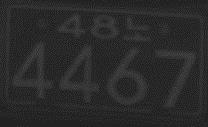4: (12, 39, 53, 100), (58, 43, 99, 103), (58, 13, 86, 39)
6: (105, 45, 148, 107)
7: (153, 47, 196, 107)
8: (90, 13, 119, 39)
노: (123, 15, 153, 43)
